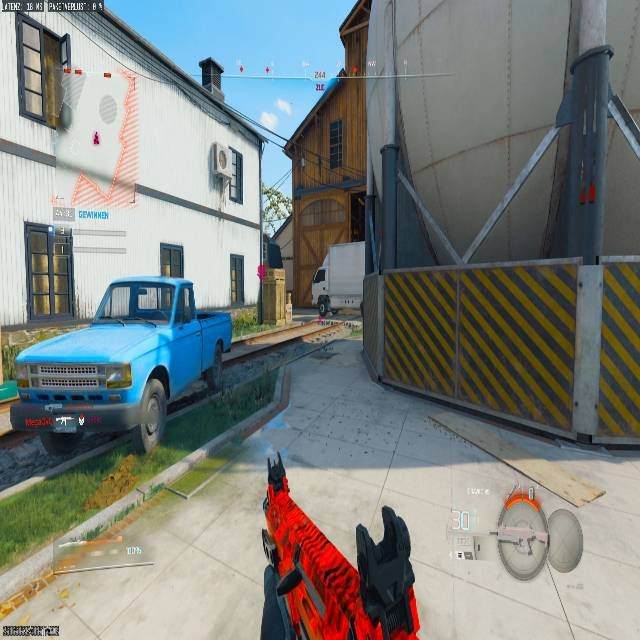player: (313, 279, 335, 323), (316, 292, 338, 319)
